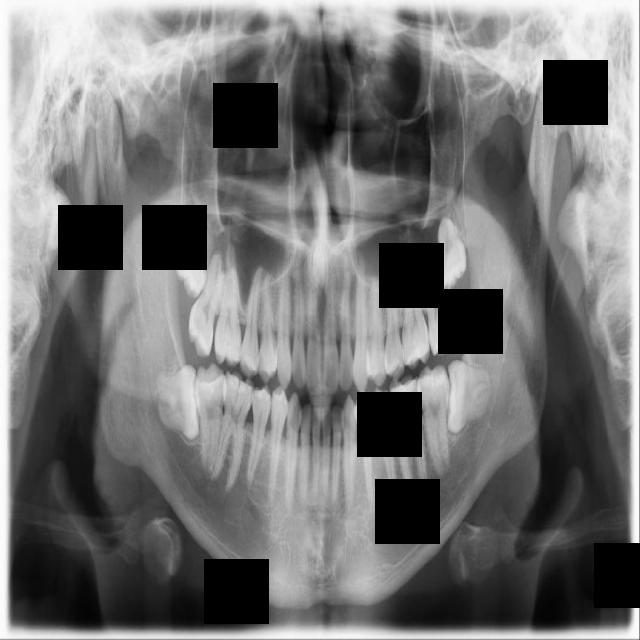3M ESPE Implant: (169, 215, 218, 302)
73: (590, 582, 606, 586)
BioHorizons Implant: (418, 247, 460, 358)
BioLife Implant: (437, 217, 467, 294)
Biomet 3i Implant: (448, 359, 490, 436)
Blue Sky Bio Implant: (415, 363, 459, 476)
Caries: (182, 250, 229, 361)
Implant: (195, 361, 226, 472)
Keystone Dental Implant: (155, 364, 202, 443)
